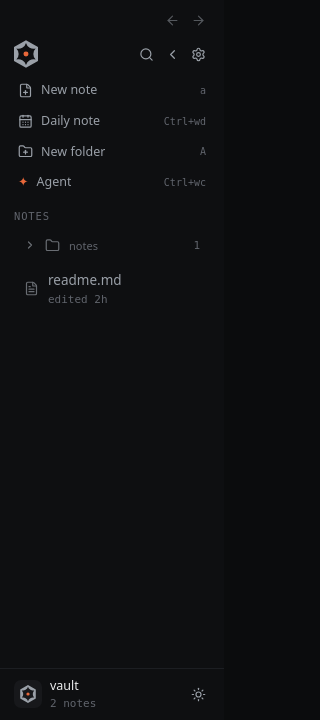
Test: Sidebar › hover reveal › reveals a chrome control's label beside the chord the resolved keymap currently binds
Hover over the button named "Find file": {"x": 146, "y": 54} [134,42,158,66]
Wait 500 ms
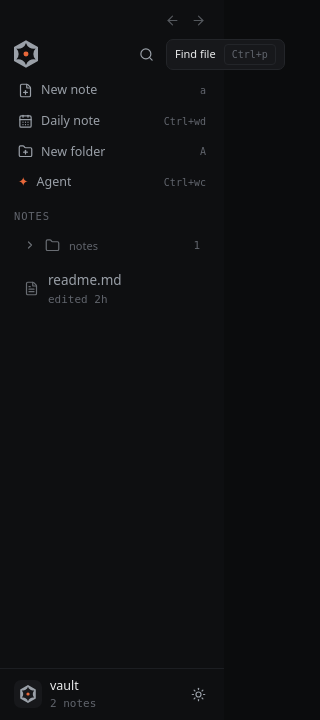
Check: the tooltip reads "Find file Ctrl+p", box [166,38,285,70]
